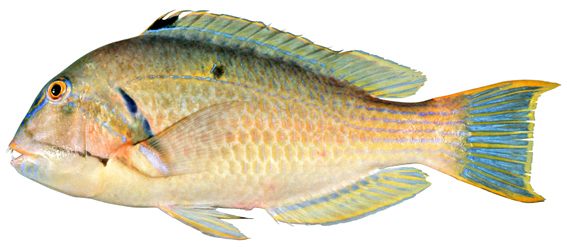fish: (8, 8, 561, 242)
